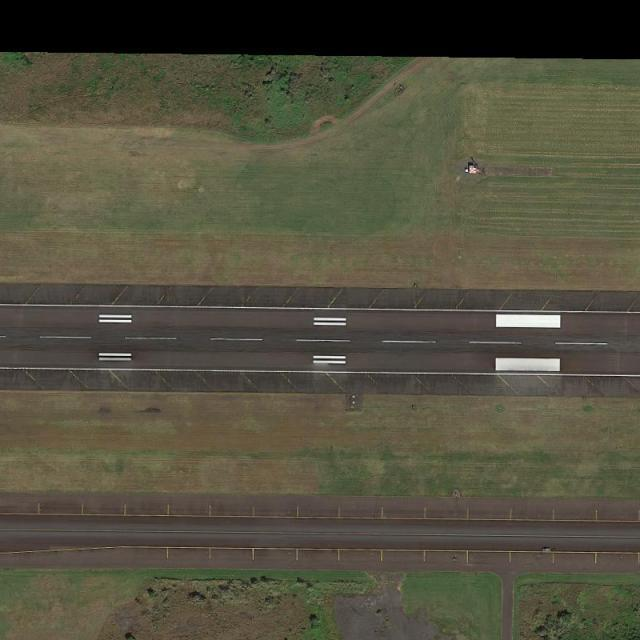vehicle: (543, 548, 554, 551)
